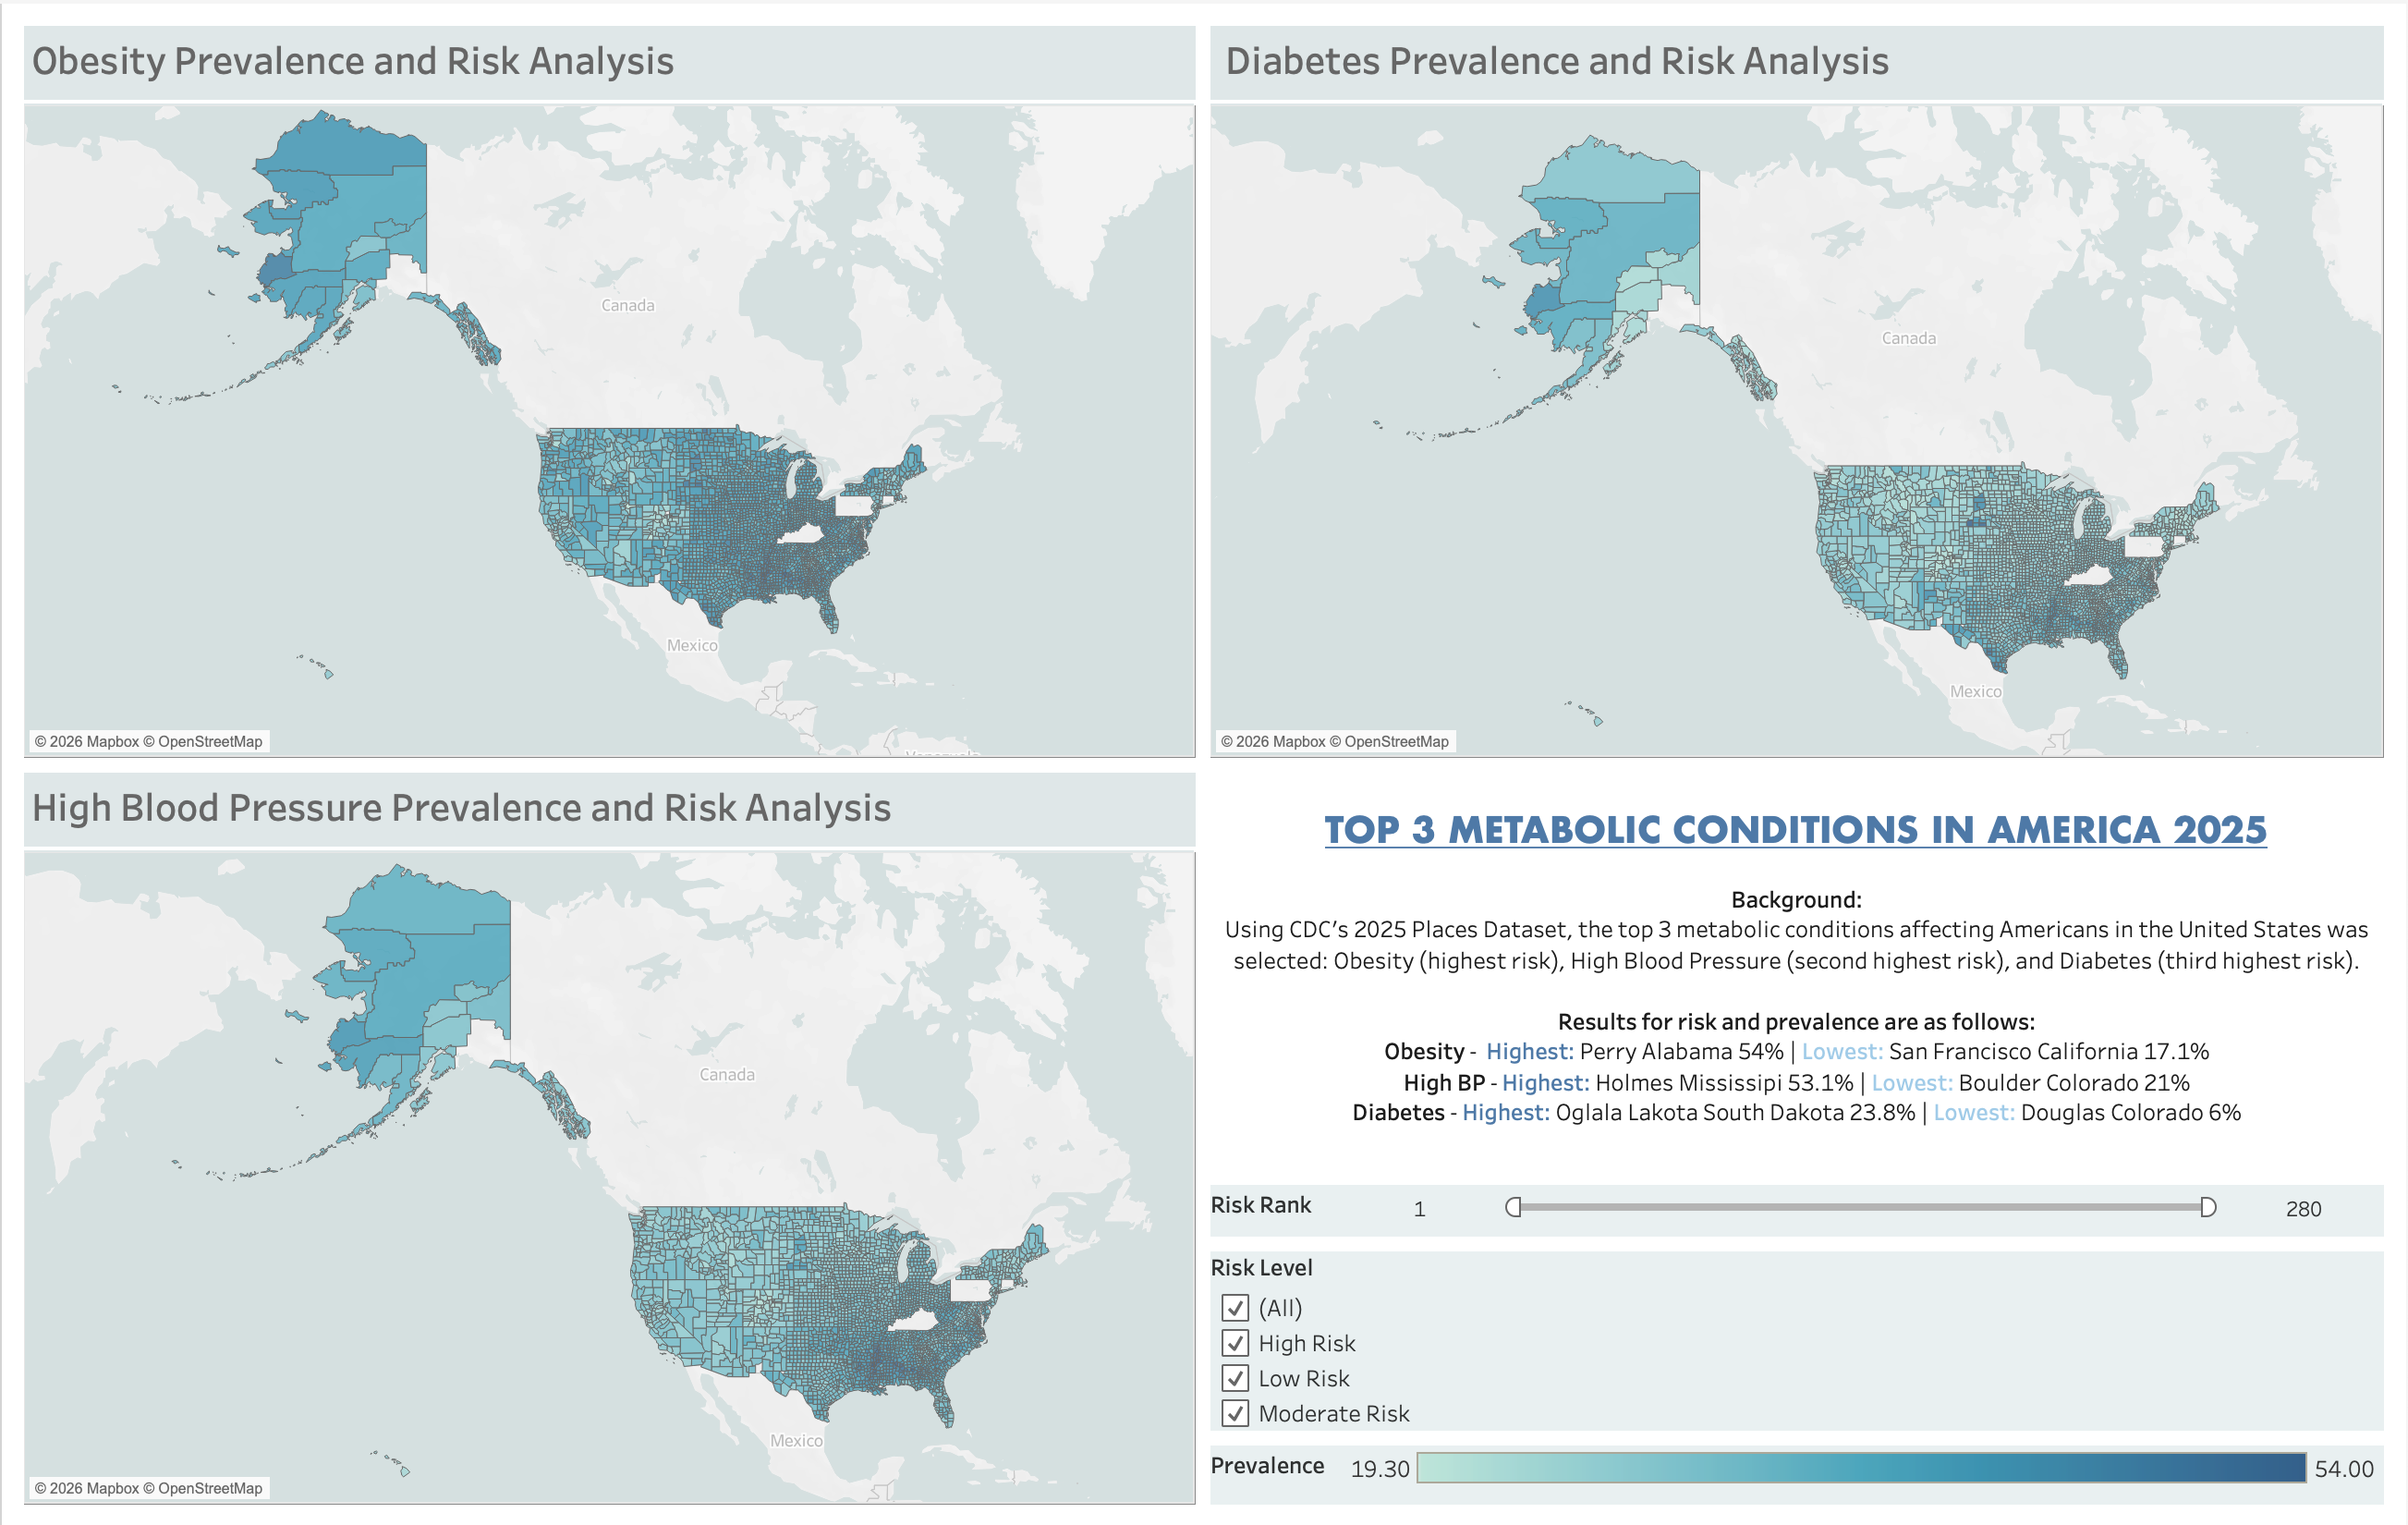

Layout of this report page (visuals, bound fields, positions):
{"tool":"tableau","page":{"name":"USA Metabolic Conditions","canvas":[1000,1000],"units":"permille","ordinal":0},"visuals":[{"type":"worksheet","title":"Obesity","mark":"Multipolygon","box":[6.3,9.7,493.7,490.3]},{"type":"worksheet","title":"Diabetes","mark":"Multipolygon","box":[500,9.7,493.7,490.3]},{"type":"worksheet","title":"HighBP","mark":"Multipolygon","box":[6.3,500,493.7,490.3]},{"type":"text","box":[500,500,493.7,270.6]},{"type":"filter","title":"Diabetes","param":"[federated.0imafbv0zmi9p511urojy1su0jvy].[none:RankedRisk:qk]","box":[500,770.6,493.7,43.7]},{"type":"filter","title":"Diabetes","param":"[federated.0imafbv0zmi9p511urojy1su0jvy].[none:RiskLevel:nk]","box":[500,814.3,493.7,127.4]},{"type":"legend","title":"Obesity","param":"[federated.0imafbv0zmi9p511urojy1su0jvy].[max:Prevalence:qk]","box":[500,941.8,493.7,48.5]}]}

Visuals, with their boxes on the dashboard's canvas, which has no fixed pixel size, in thousandths of its width and height (x1, y1, x2, y2). These are canvas units, not pixel positions in the 2408x1525 screenshot, which may show the page scaled, cropped or inside an application window:
"Obesity" worksheet (Multipolygon marks): bbox=[6, 10, 500, 500]
"Diabetes" worksheet (Multipolygon marks): bbox=[500, 10, 994, 500]
"HighBP" worksheet (Multipolygon marks): bbox=[6, 500, 500, 990]
text: bbox=[500, 500, 994, 771]
"Diabetes" filter: bbox=[500, 771, 994, 814]
"Diabetes" filter: bbox=[500, 814, 994, 942]
"Obesity" legend: bbox=[500, 942, 994, 990]
